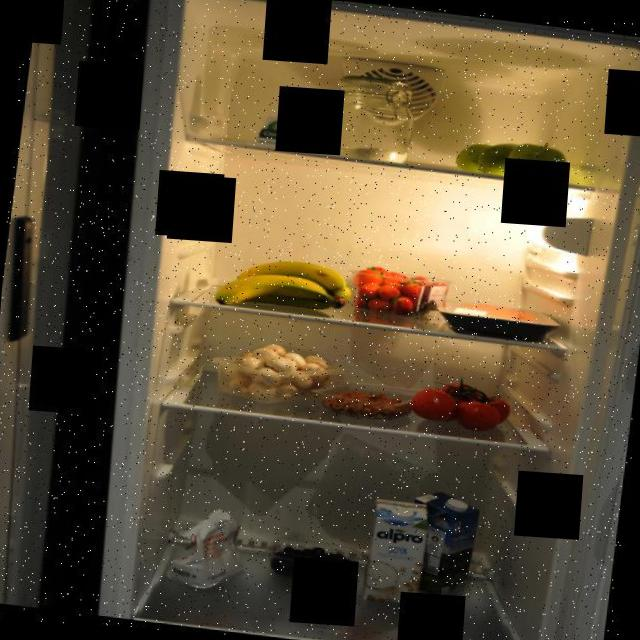Champiñones: (207, 336, 346, 416)
Gambas/Langostinos: (316, 382, 412, 426)
Leche: (403, 487, 484, 603), (360, 495, 433, 609)
Manzana: (453, 130, 571, 187)
Plátano: (209, 248, 357, 319)
Tomate: (406, 369, 519, 434)
